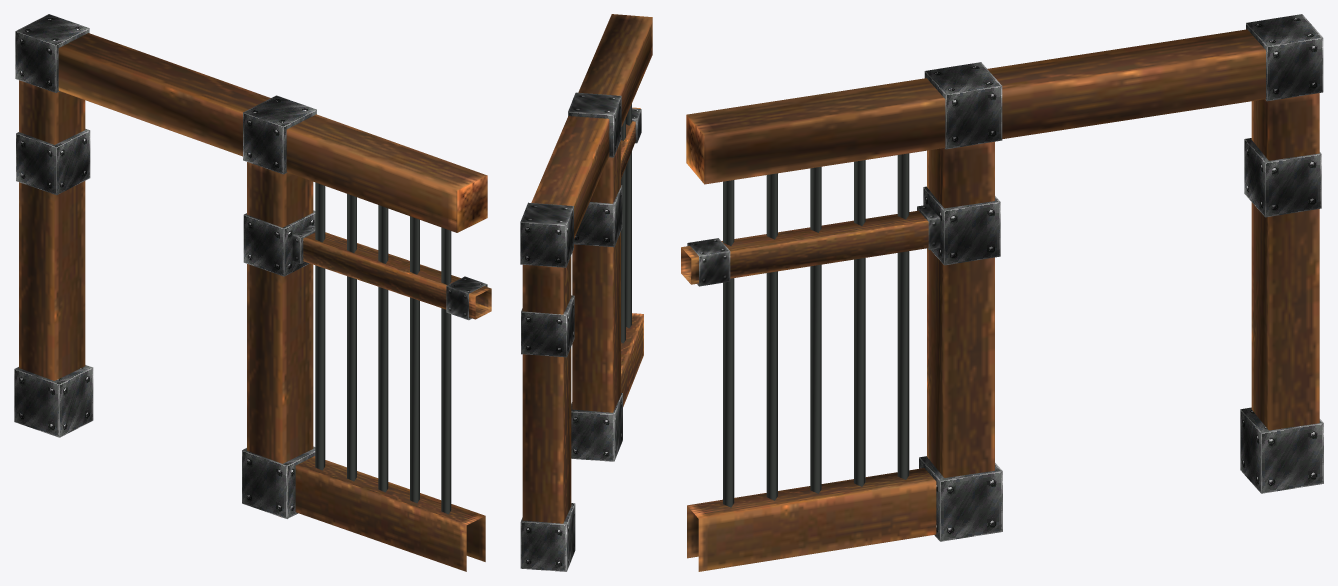
The model's file is SWORDLIGHT20_JAILCELLBARS06.fbx.
3 views of the same model, side by side, from view 1: azimuth 30°, elevation 25°; view 2: azimuth 150°, elevation 25°; view 3: azimuth 270°, elevation 25° (orthographic). The views are drawn at different scales.
Parts seen in each view (by area): view 1: SWORDLIGHT20_JAILCELLBARS06; view 2: SWORDLIGHT20_JAILCELLBARS06; view 3: SWORDLIGHT20_JAILCELLBARS06.
Part boxes in pixels (box(x1,y1,x2,y2)): SWORDLIGHT20_JAILCELLBARS06: box(14, 14, 491, 571); SWORDLIGHT20_JAILCELLBARS06: box(520, 14, 652, 571); SWORDLIGHT20_JAILCELLBARS06: box(681, 14, 1323, 571).
Bounding box in the file's own units: 20805 × 36866 × 48019.
Materials: 3 (3 with a texture image).
